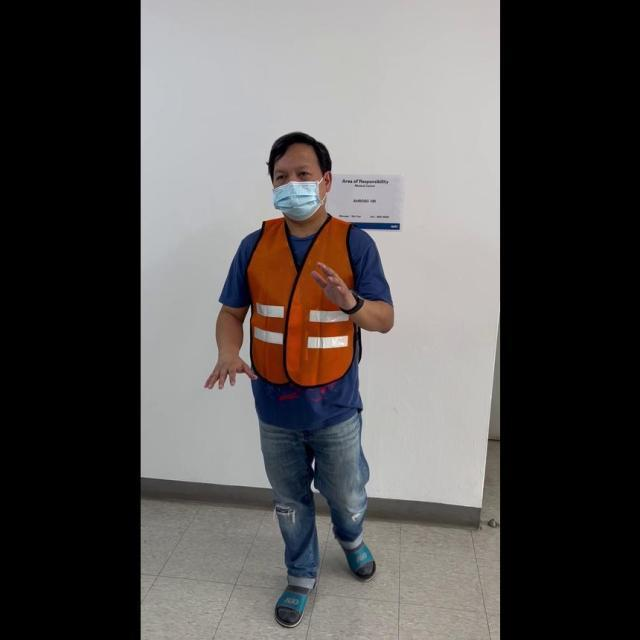bare_hand: (307, 258, 356, 314), (202, 344, 252, 390)
